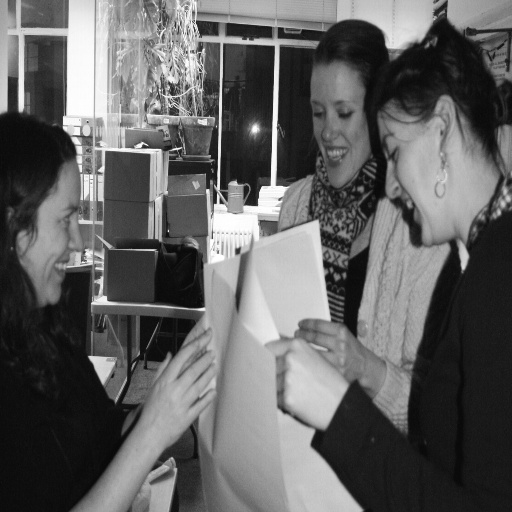hand: (142, 325, 215, 444), (293, 314, 368, 382), (180, 312, 207, 367)
